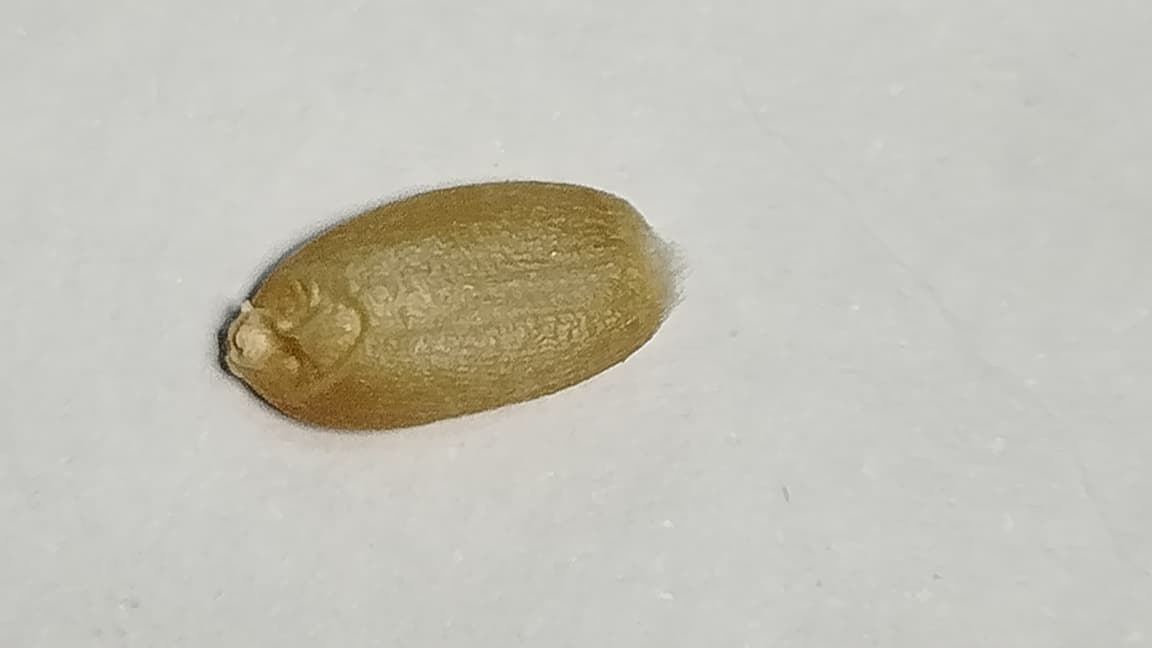healthy: (222, 179, 679, 428)
